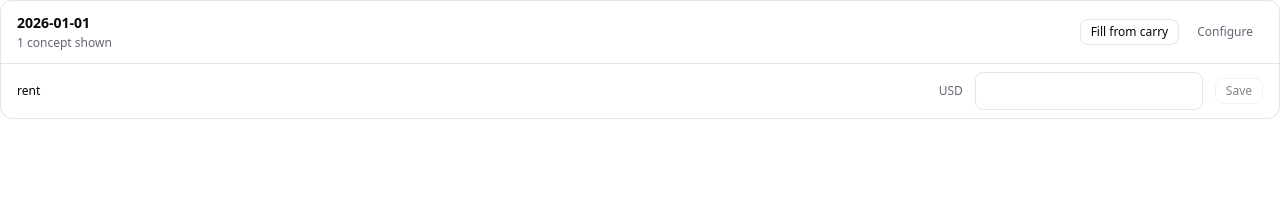
Scenario: SnapshotEntrySheet › shows Configure button and toggles concept visibility
Step 1. Click the button "Configure" → (1225, 32), box 1187,20 -> 1263,44
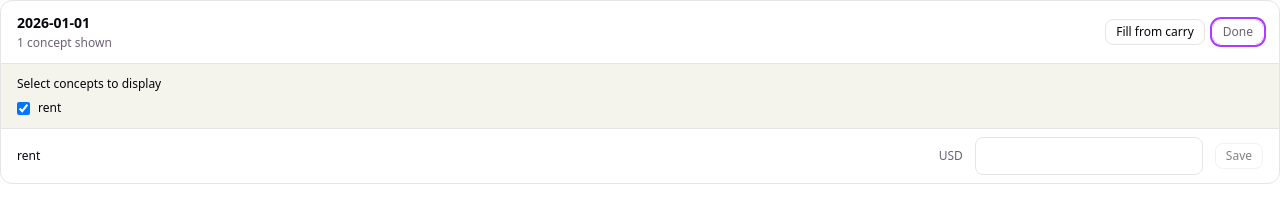
Expected: the checkbox labelled "rent" is shown, 17,102 -> 30,114
